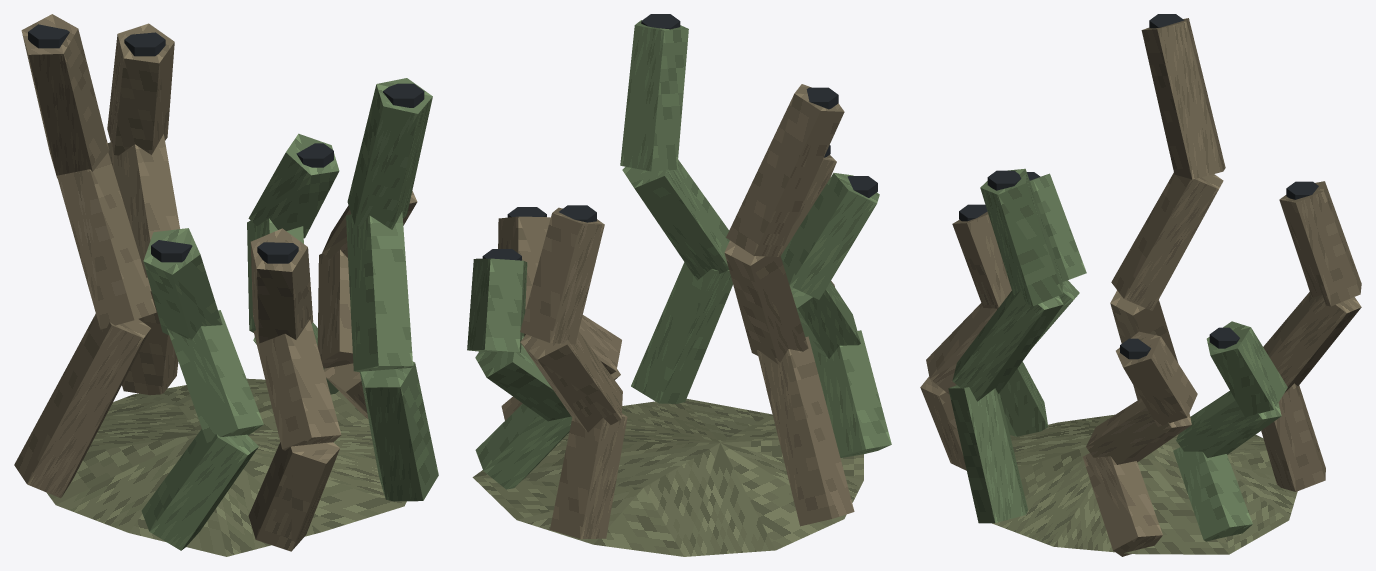
File: f_nl_pipe_plant.glb
3 renders of one model, left to right at view 1: azimuth 30°, elevation 25°; view 2: azimuth 150°, elevation 25°; view 3: azimuth 270°, elevation 25°, orthographic. The views are drawn at different scales.
Visible parts, largest first — view 1: block_reed-shaped-plumbing-pipe-2 (×7), block_reed-shaped-plumbing-pipe-3 (×7), block_reed-shaped-plumbing-pipe-1 (×6), block_rooted-labyrinth-plant-base, block_hollow-cut-reed-tip (×6); view 2: block_reed-shaped-plumbing-pipe-3 (×7), block_reed-shaped-plumbing-pipe-1 (×5), block_rooted-labyrinth-plant-base, block_reed-shaped-plumbing-pipe-2 (×6), block_hollow-cut-reed-tip; view 3: block_reed-shaped-plumbing-pipe-3 (×7), block_reed-shaped-plumbing-pipe-2 (×6), block_reed-shaped-plumbing-pipe-1 (×7), block_rooted-labyrinth-plant-base, block_hollow-cut-reed-tip.
Part boxes in pixels (left/top/right/bottom): block_reed-shaped-plumbing-pipe-2 (×7): left=57, top=134, right=412, bottom=450; block_reed-shaped-plumbing-pipe-3 (×7): left=21, top=14, right=432, bottom=343; block_reed-shaped-plumbing-pipe-1 (×6): left=14, top=277, right=438, bottom=551; block_rooted-labyrinth-plant-base: left=46, top=378, right=406, bottom=556; block_hollow-cut-reed-tip (×6): left=28, top=24, right=424, bottom=263; block_reed-shaped-plumbing-pipe-3 (×7): left=467, top=20, right=879, bottom=352; block_reed-shaped-plumbing-pipe-1 (×5): left=475, top=262, right=891, bottom=539; block_rooted-labyrinth-plant-base: left=472, top=398, right=863, bottom=556; block_reed-shaped-plumbing-pipe-2 (×6): left=475, top=159, right=860, bottom=432; block_hollow-cut-reed-tip: left=806, top=87, right=838, bottom=109; block_reed-shaped-plumbing-pipe-3 (×7): left=952, top=18, right=1361, bottom=426; block_reed-shaped-plumbing-pipe-2 (×6): left=926, top=172, right=1361, bottom=464; block_reed-shaped-plumbing-pipe-1 (×7): left=920, top=290, right=1325, bottom=556; block_rooted-labyrinth-plant-base: left=992, top=414, right=1297, bottom=554; block_hollow-cut-reed-tip: left=987, top=170, right=1021, bottom=190.
Size of the model in its own units: 0.6605 by 0.7809 by 0.7668.
1 material, 1 textured.
